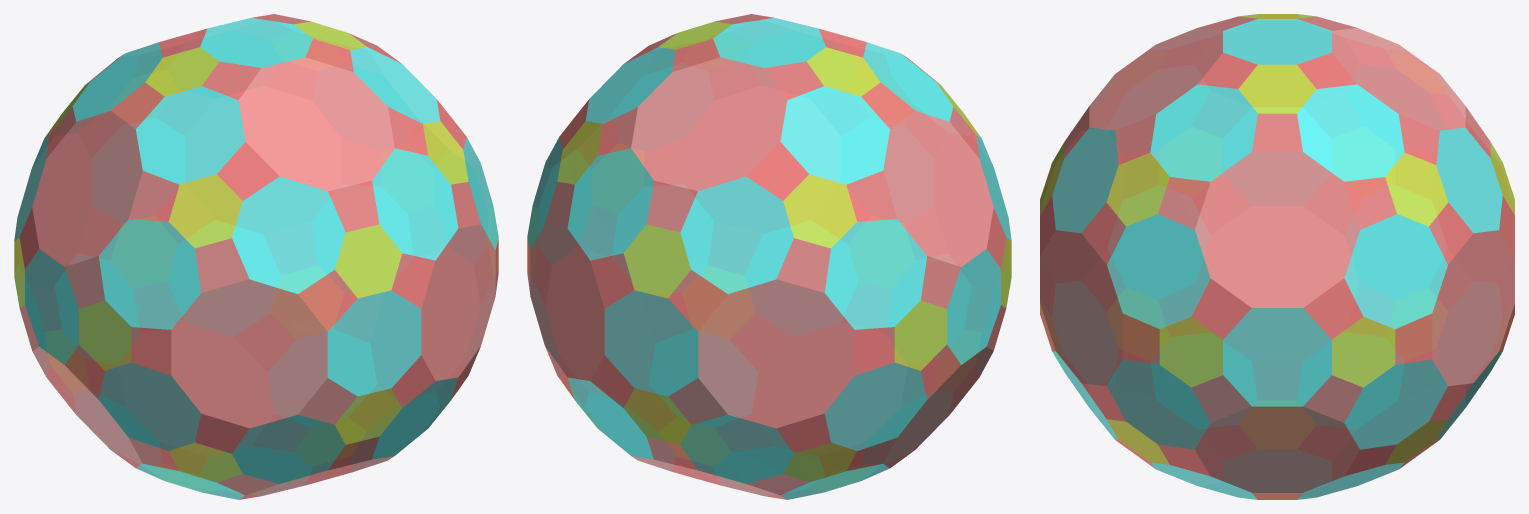
Rendered from TruncatedRhombicosidodecahedron.obj.
3 renders of one model, left to right at view 1: azimuth 30°, elevation 25°; view 2: azimuth 150°, elevation 25°; view 3: azimuth 270°, elevation 25°, orthographic.
Bounding box in the file's own units: 1.95 × 1.95 × 1.95.
